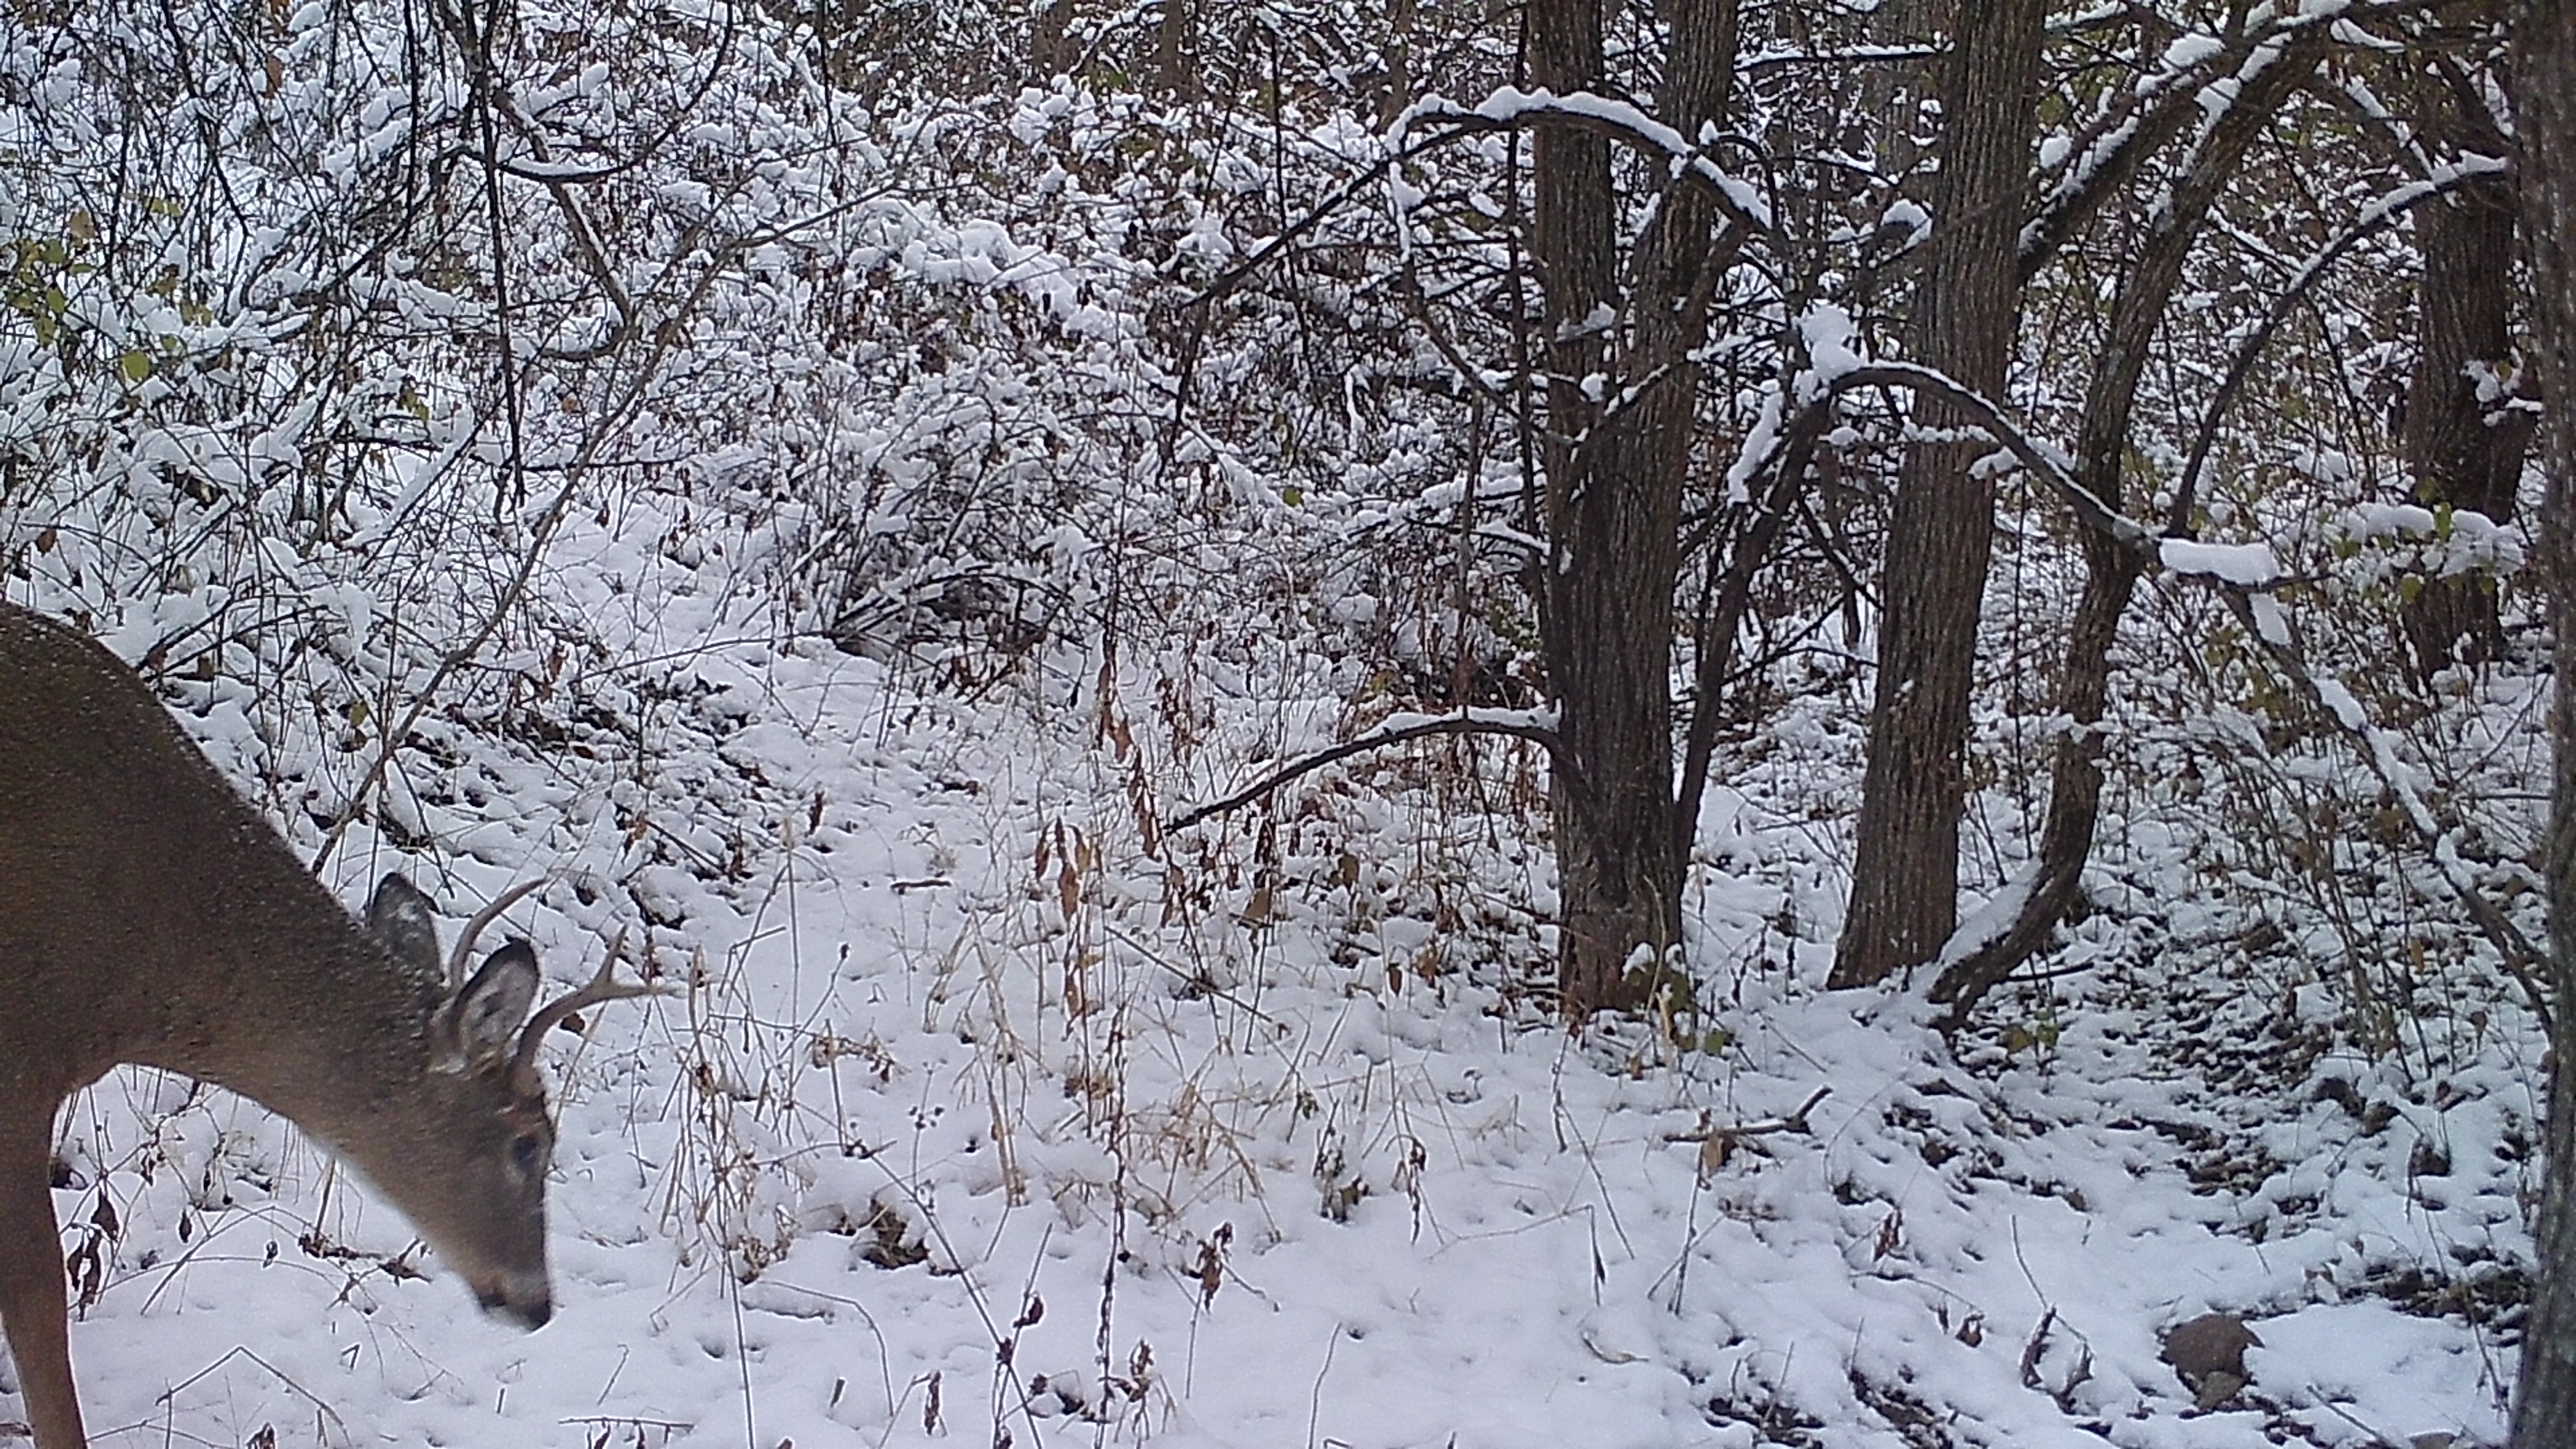DeerBuck: (1, 602, 691, 1448)
DeerBuckHead: (369, 872, 693, 1330)
